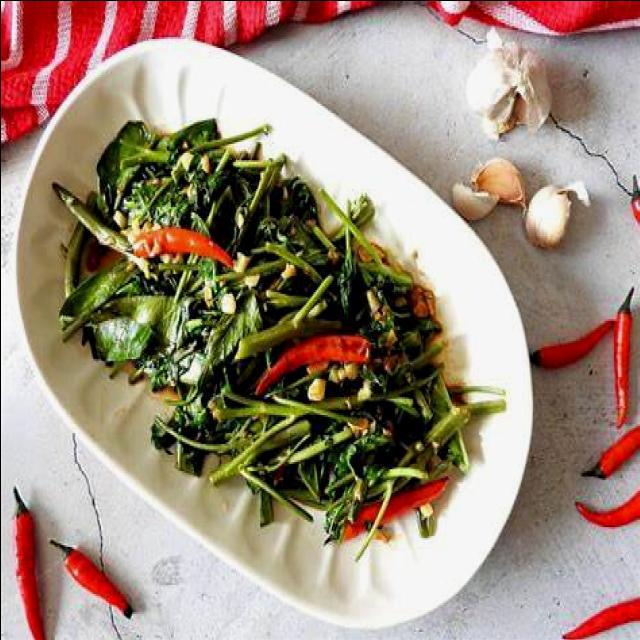tumis kangkung: (49, 116, 475, 551)
